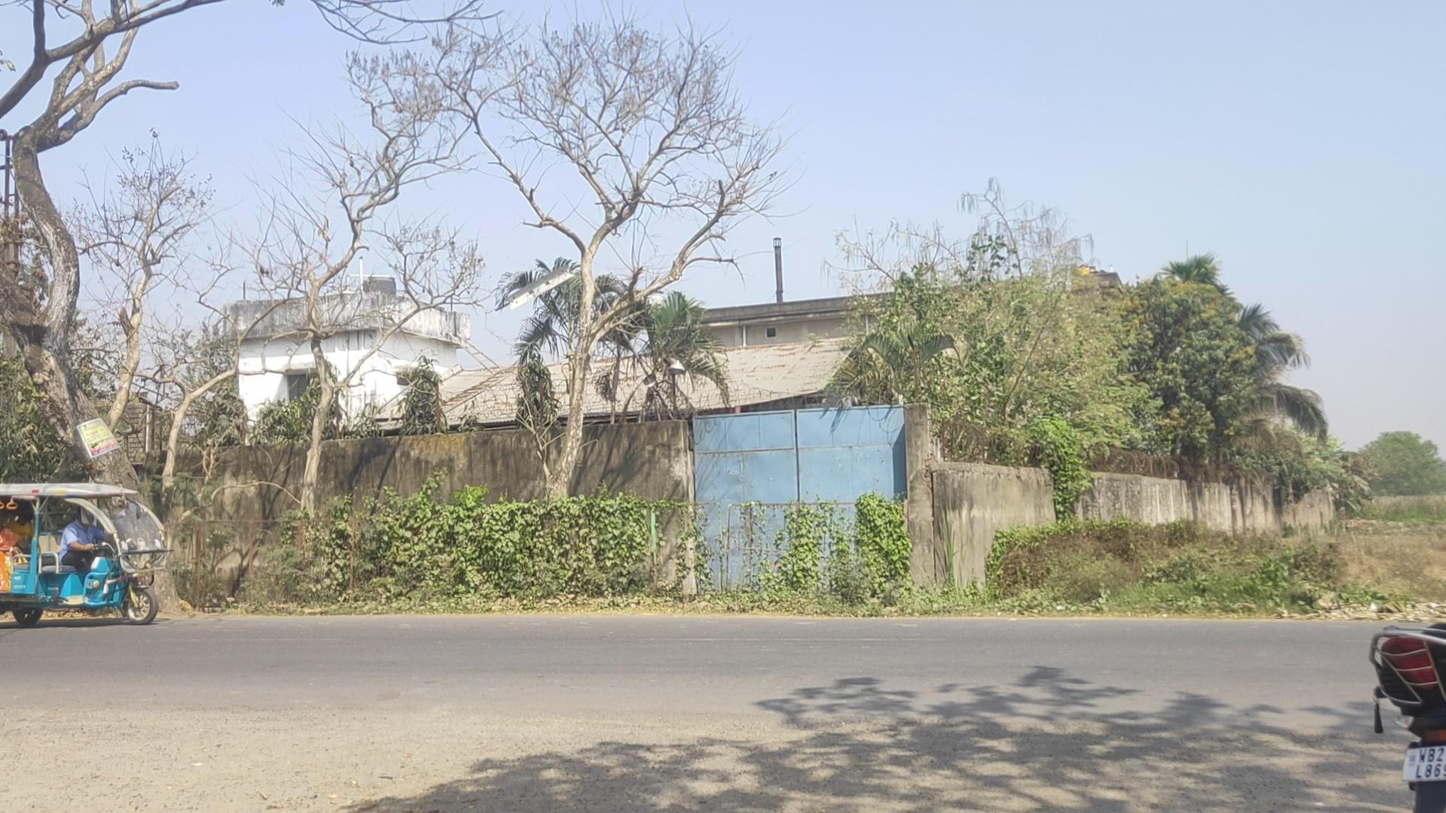Auto: (1, 481, 173, 628)
